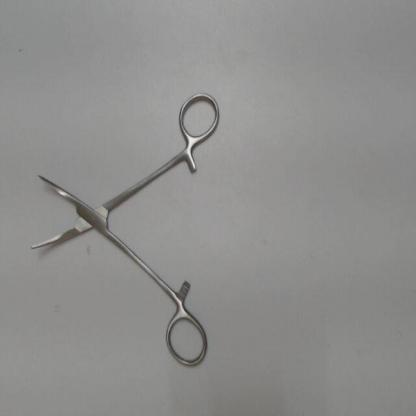Crile Artery Forceps: (24, 85, 222, 380)
